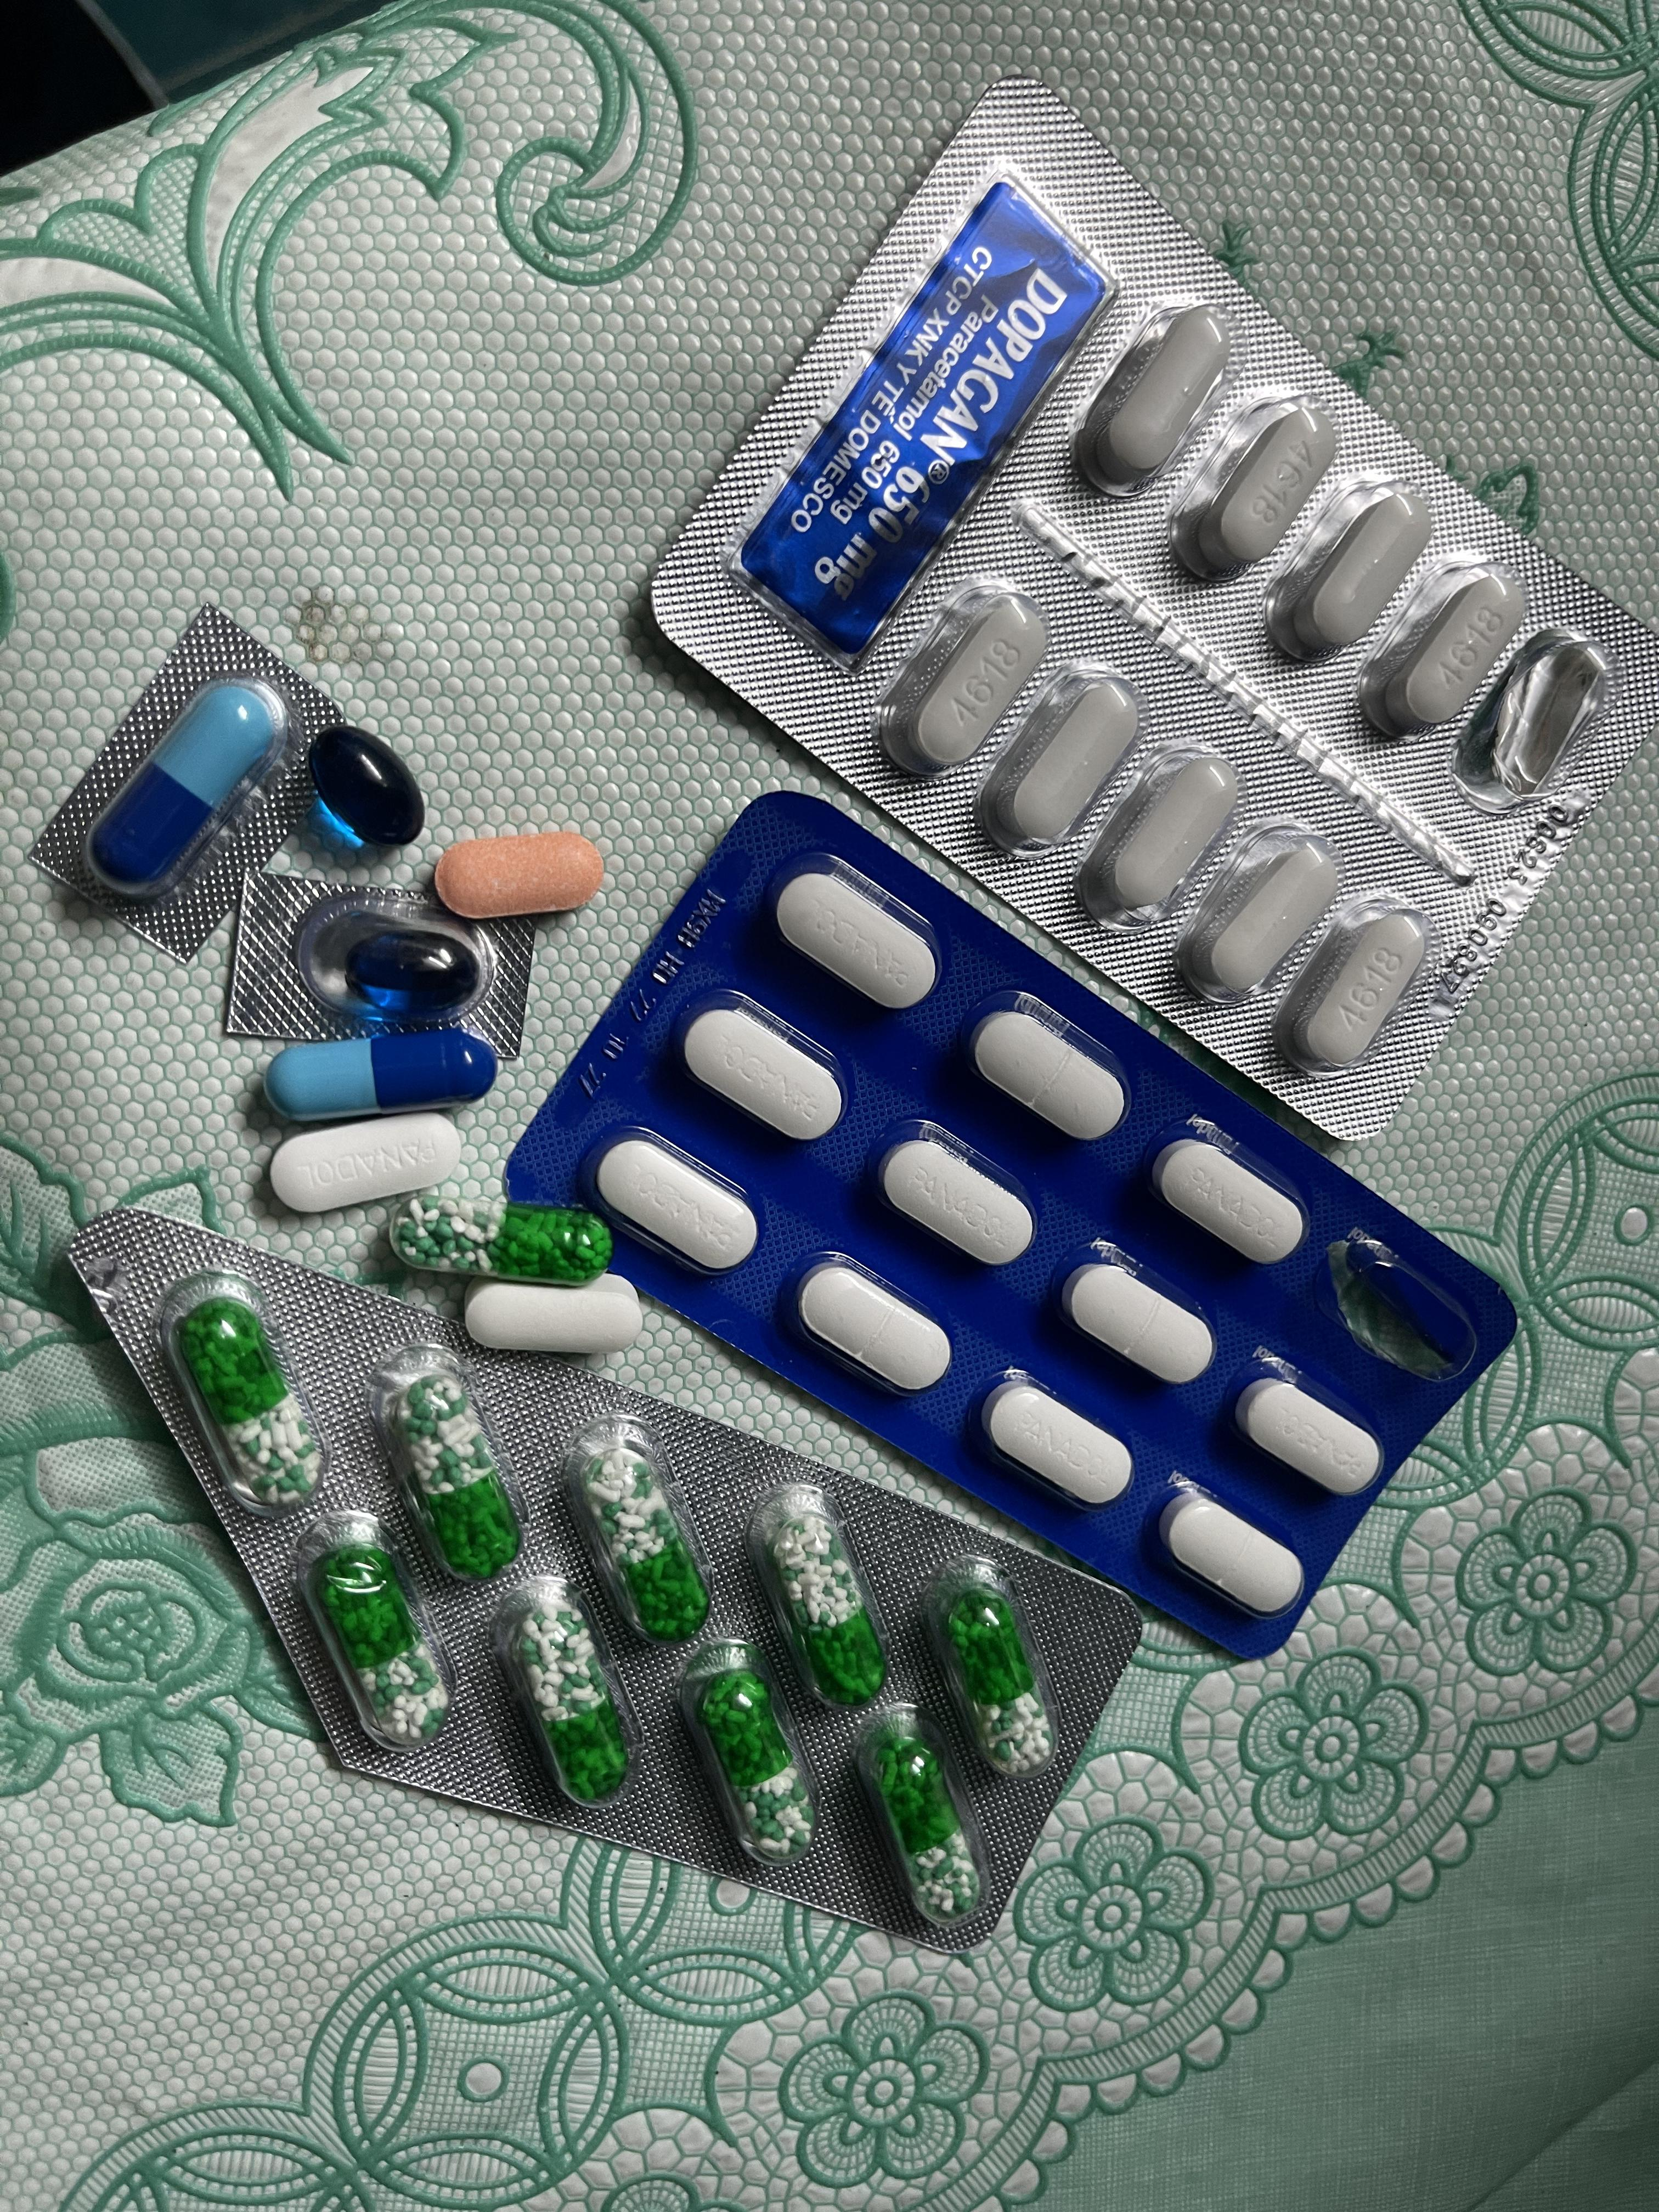Lincomyxin_500mg: (304, 726, 430, 851), (345, 929, 482, 1012)
Loratadine_10mg: (433, 833, 608, 921)
Paracetamol_350mg: (764, 856, 932, 1001), (964, 990, 1133, 1128), (783, 1256, 951, 1395), (872, 1125, 1036, 1265), (682, 1004, 842, 1145), (589, 1133, 754, 1269), (1051, 1249, 1210, 1385), (975, 1374, 1131, 1508), (1151, 1132, 1307, 1263), (269, 1110, 470, 1206), (1232, 1371, 1380, 1498), (1159, 1490, 1301, 1617)
Paracetamol_500mg: (878, 580, 1054, 778), (1167, 389, 1343, 584), (1263, 474, 1435, 665), (976, 664, 1145, 855), (1353, 557, 1525, 744), (1075, 296, 1236, 495), (1067, 740, 1235, 922), (1175, 823, 1339, 994), (1276, 894, 1433, 1056), (465, 1273, 648, 1358)
Paracetamol_650mg: (692, 1661, 821, 1884), (182, 1303, 323, 1499), (317, 1544, 448, 1746), (518, 1595, 633, 1805), (394, 1378, 518, 1571), (585, 1447, 707, 1640), (863, 1711, 975, 1918), (773, 1513, 879, 1704), (947, 1588, 1056, 1774), (386, 1194, 613, 1282)
pill: (84, 680, 294, 899), (265, 1030, 494, 1119)
